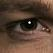eye: (21, 20, 36, 31)
